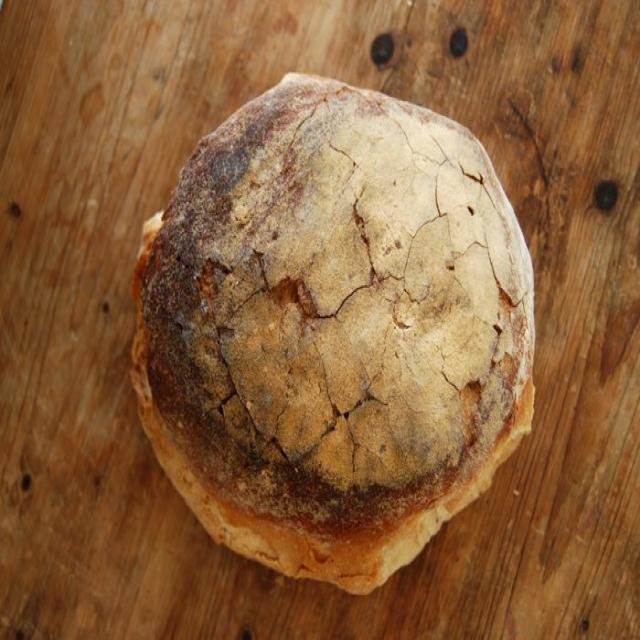Maltese-Bread: (132, 74, 532, 592)
